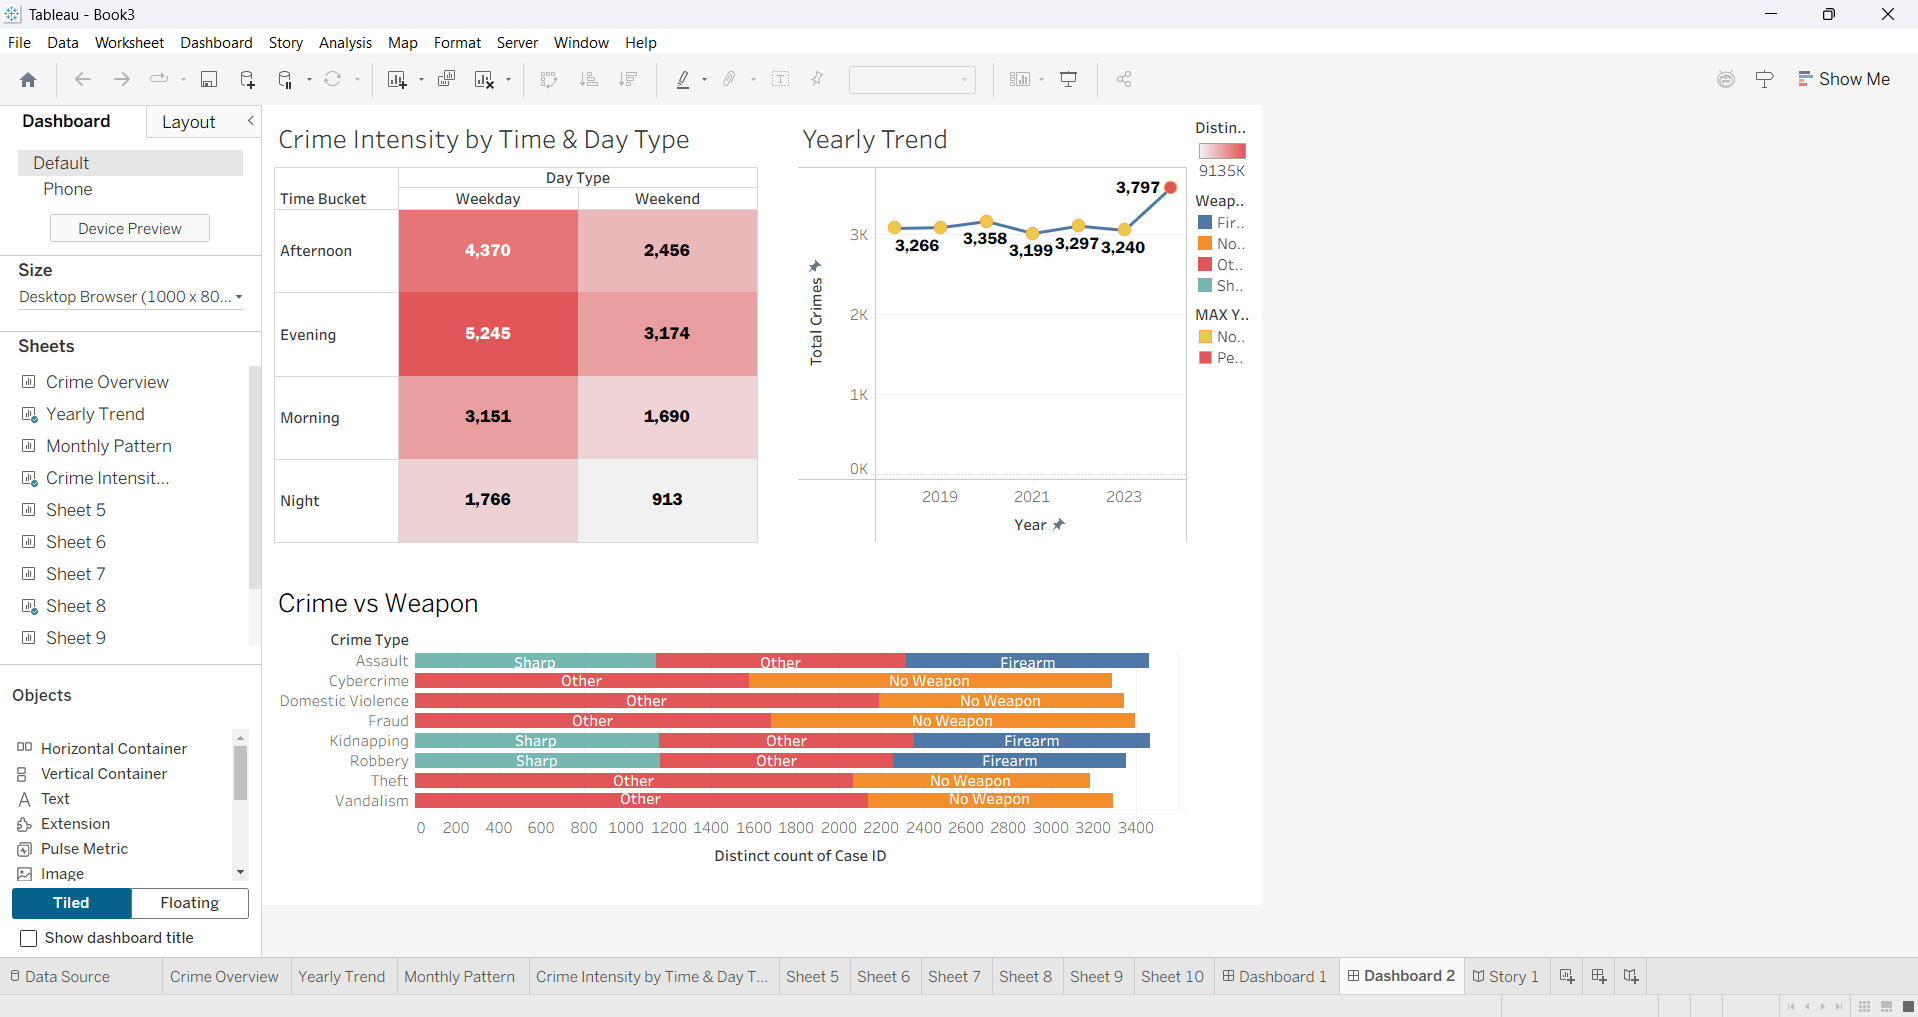

What the dashboard file says about the page in this screenshot:
{"tool":"tableau","page":{"name":"Dashboard 2","canvas":[1000,800],"ordinal":1},"visuals":[{"type":"worksheet","title":"Crime Intensity by Time & Day Type","mark":"Square","rows":["Calculation_1839815189794822"],"cols":["Calculation_1839815189987335"],"box":[8,8,492,434]},{"type":"blank","box":[500,8,32,434]},{"type":"worksheet","title":"Yearly Trend","mark":"Automatic","rows":["Case_ID","Case_ID"],"cols":["Calculation_1839815195738128"],"box":[532,8,397,434]},{"type":"legend","title":"Crime Intensity by Time & Day Type","param":"[federated.1bnoh9607viowp10eqg8a1ajgy2g].[ctd:Case_ID:qk]","box":[929,8,63,73]},{"type":"legend","title":"Sheet 8","param":"[federated.1bnoh9607viowp10eqg8a1ajgy2g].[none:Calculation_1839815190331402:nk]","box":[929,81,63,114]},{"type":"legend","title":"Yearly Trend","param":"[federated.1bnoh9607viowp10eqg8a1ajgy2g].[usr:Calculation_1839815198662673:nk]","box":[929,195,63,72]},{"type":"blank","box":[8,442,921,32]},{"type":"worksheet","title":"Sheet 8","mark":"Bar","rows":["Crime Type"],"cols":["Case_ID"],"box":[8,474,921,318]}]}

Visuals, with their boxes on the page's 1000x800 design canvas (x1, y1, x2, y2). These are canvas units, not pixel positions in the 1918x1017 screenshot, which may show the page scaled, cropped or inside an application window:
"Crime Intensity by Time & Day Type" worksheet (Square marks): (x1=8, y1=8, x2=500, y2=442)
blank: (x1=500, y1=8, x2=532, y2=442)
"Yearly Trend" worksheet: (x1=532, y1=8, x2=929, y2=442)
"Crime Intensity by Time & Day Type" legend: (x1=929, y1=8, x2=992, y2=81)
"Sheet 8" legend: (x1=929, y1=81, x2=992, y2=195)
"Yearly Trend" legend: (x1=929, y1=195, x2=992, y2=267)
blank: (x1=8, y1=442, x2=929, y2=474)
"Sheet 8" worksheet (Bar marks): (x1=8, y1=474, x2=929, y2=792)
